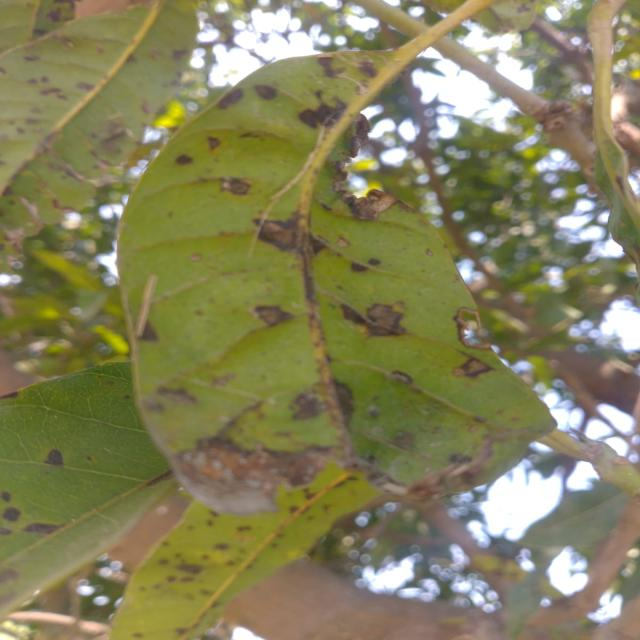Anthracnose: (168, 433, 334, 523), (252, 211, 317, 252), (449, 302, 492, 358), (343, 185, 401, 225), (253, 214, 301, 256), (297, 97, 350, 132), (247, 294, 292, 333), (284, 386, 327, 425), (332, 377, 361, 426), (366, 302, 405, 337), (345, 113, 374, 160), (336, 301, 369, 329), (452, 356, 493, 378), (215, 84, 247, 112), (315, 50, 342, 81), (155, 386, 198, 404), (218, 175, 251, 197), (22, 520, 61, 537), (139, 320, 164, 346), (388, 368, 414, 386), (174, 561, 204, 575), (1, 505, 22, 525), (393, 430, 415, 449), (357, 60, 377, 78), (254, 84, 276, 99), (448, 452, 472, 465), (45, 449, 63, 465), (0, 568, 19, 583), (335, 235, 351, 250), (207, 135, 221, 151), (172, 49, 189, 62), (76, 81, 95, 92), (175, 154, 193, 165), (350, 262, 367, 272), (214, 541, 230, 551), (236, 524, 253, 533), (367, 257, 381, 267), (0, 392, 19, 399), (0, 491, 11, 502), (189, 252, 202, 261), (0, 527, 12, 535), (426, 248, 434, 256)
